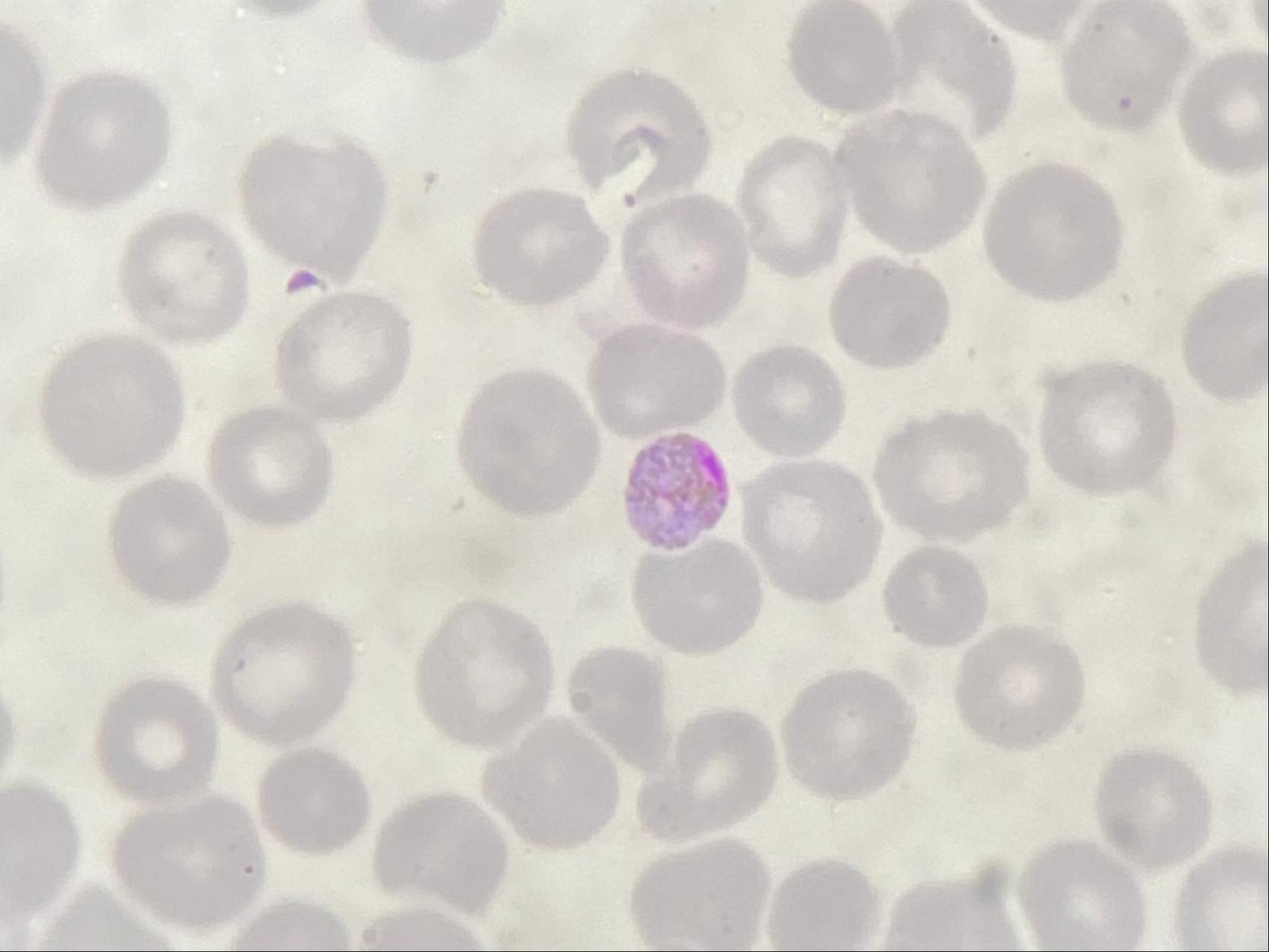Infected: (625, 432, 731, 549)
Uninfected: (238, 131, 386, 282), (43, 333, 182, 481), (833, 113, 981, 252), (456, 370, 599, 513), (213, 604, 356, 746), (413, 600, 553, 745), (112, 797, 264, 929), (876, 413, 1026, 539), (566, 71, 711, 201), (740, 463, 877, 596), (481, 721, 620, 852), (636, 709, 775, 838), (985, 165, 1118, 298), (114, 209, 243, 345), (889, 1, 1019, 134), (1039, 366, 1174, 493), (371, 790, 508, 915), (38, 73, 167, 204), (623, 838, 771, 951), (618, 196, 747, 325), (781, 671, 911, 799), (1062, 3, 1190, 131), (274, 295, 408, 416), (96, 676, 221, 801), (473, 190, 607, 306), (588, 325, 724, 438), (109, 477, 231, 602), (735, 138, 848, 271), (955, 628, 1081, 746), (631, 539, 761, 653), (206, 409, 330, 524), (1096, 748, 1210, 864), (829, 257, 949, 366), (568, 647, 673, 770), (254, 745, 369, 855), (1019, 844, 1140, 947), (787, 3, 898, 111), (732, 345, 843, 452), (878, 868, 1024, 949), (763, 859, 882, 951), (1196, 539, 1268, 690), (1182, 272, 1268, 396), (1, 783, 80, 917), (1180, 52, 1268, 169), (883, 547, 989, 643), (1178, 848, 1267, 943)
